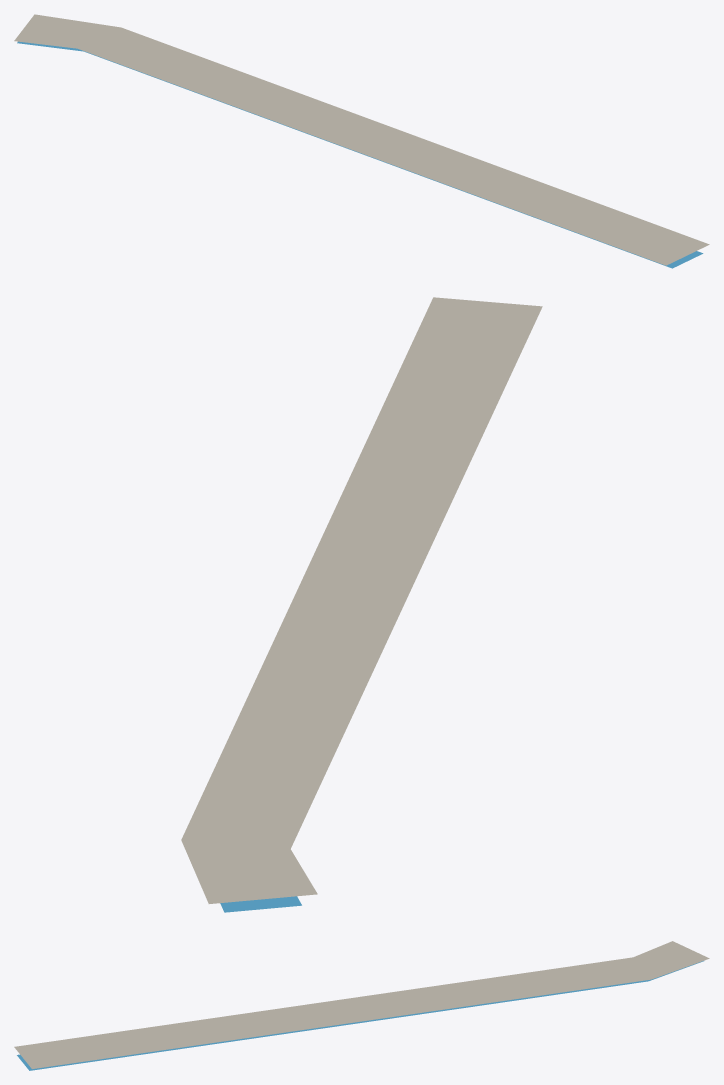
3 renders of one model, top to bottom at view 1: azimuth 30°, elevation 25°; view 2: azimuth 150°, elevation 25°; view 3: azimuth 270°, elevation 25°, orthographic. The views are drawn at different scales.
Visible parts, largest first — view 1: estructura_terreno, estructura_agua; view 2: estructura_terreno; view 3: estructura_terreno, estructura_agua.
Boxes of the visible parts, box(x1,y1,x2,y2) form: estructura_terreno: box(14, 14, 709, 265); estructura_agua: box(17, 41, 703, 268); estructura_terreno: box(181, 297, 542, 903); estructura_terreno: box(14, 941, 709, 1068); estructura_agua: box(17, 961, 703, 1070).
Bounding box in the file's own units: 22.83 × 0.41 × 52.39.
